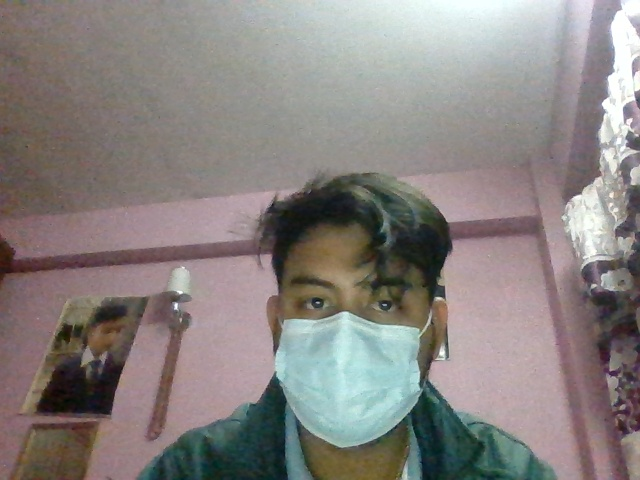mask: (266, 308, 451, 458)
